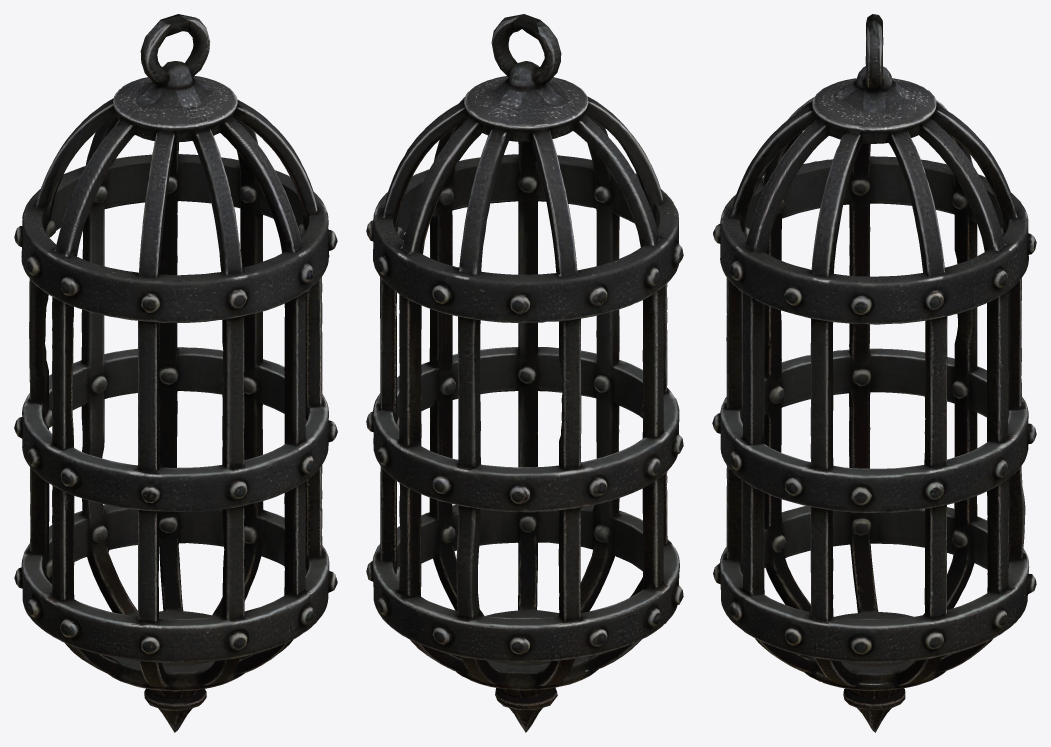
Rendered from Cage_Empty.fbx.
3 renders of one model, left to right at view 1: azimuth 30°, elevation 25°; view 2: azimuth 150°, elevation 25°; view 3: azimuth 270°, elevation 25°, orthographic.
Visible parts, largest first — view 1: Cage_Empty; view 2: Cage_Empty; view 3: Cage_Empty.
Boxes of the visible parts, x1,y1,x2,y2 form: Cage_Empty: (14, 14, 337, 732); Cage_Empty: (366, 14, 683, 732); Cage_Empty: (712, 14, 1036, 732).
Size of the model in its own units: 72.89 by 179 by 73.59.
1 material, 1 textured.
